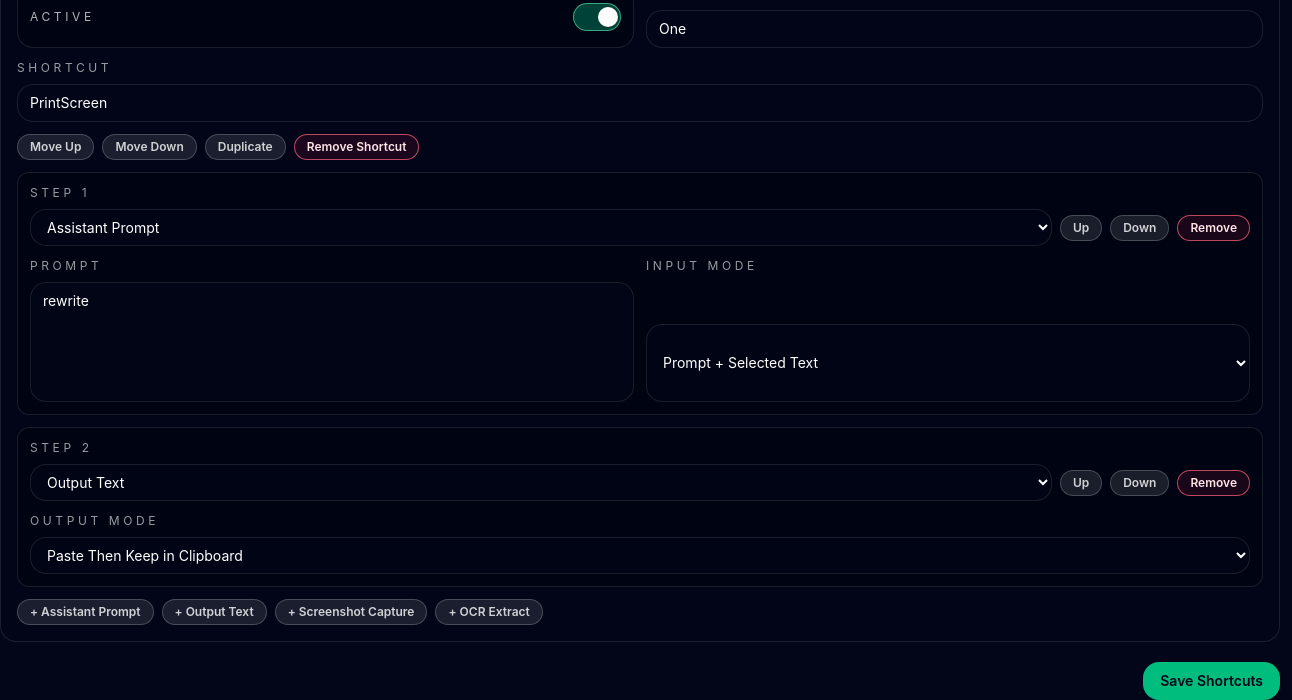
it: ShortcutsPage › renders save warnings returned by config save
(page scrolled)
Step 1. Click the button "Save Shortcuts" → x=1212, y=681, box [1143,662,1280,699]
(page scrolled)
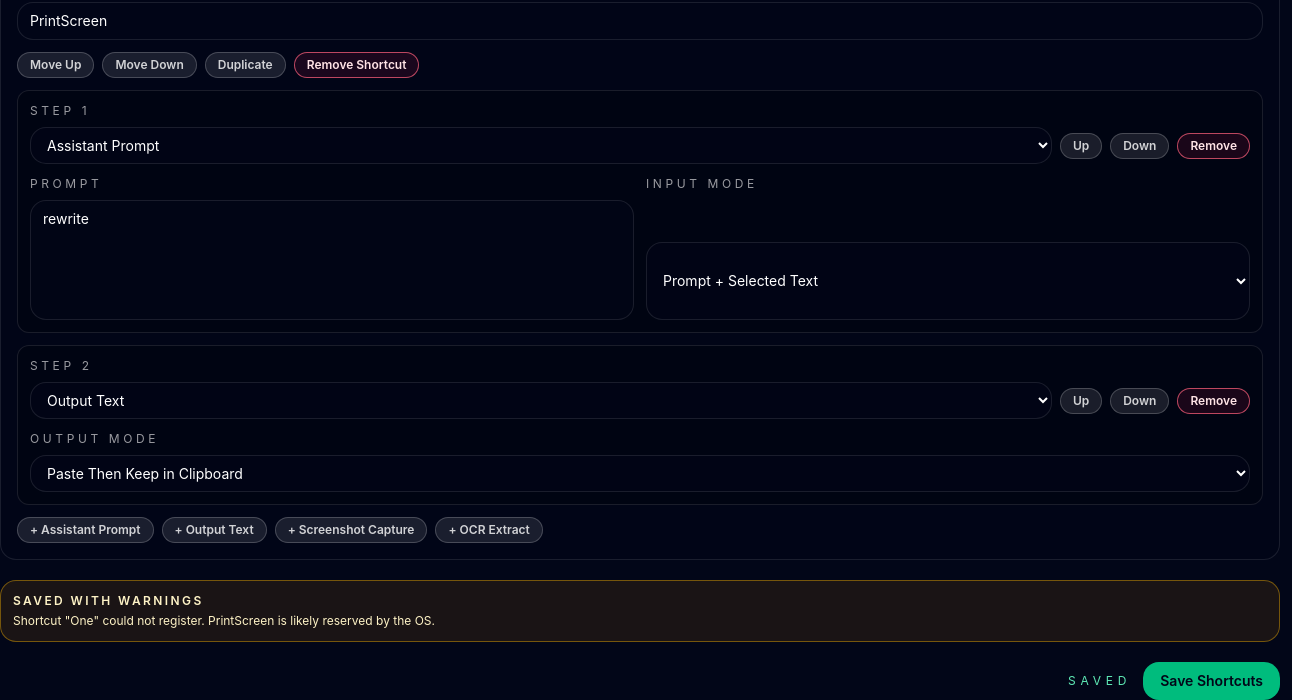
Expected: the text "Saved with warnings" is shown, [13,593,204,608]
Expected: the text "PrintScreen is likely reserved by the OS" is shown, [13,613,435,628]
